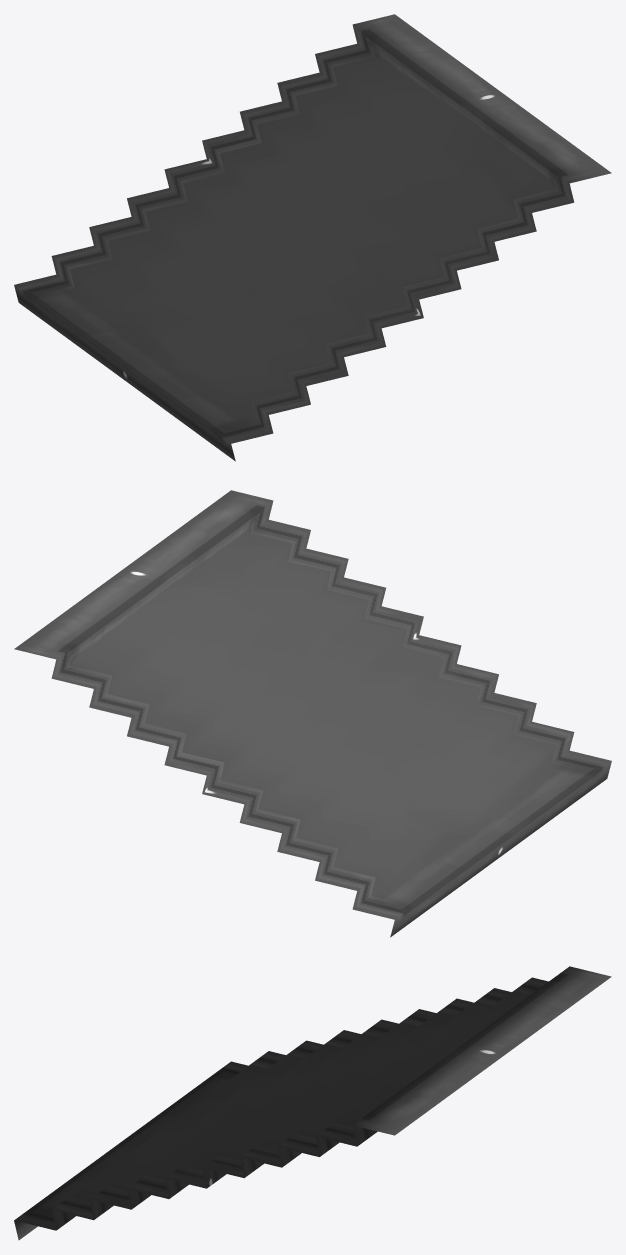
The model's file is floorPlane02_stairs.fbx.
3 renders of one model, top to bottom at view 1: azimuth 30°, elevation 25°; view 2: azimuth 150°, elevation 25°; view 3: azimuth 330°, elevation 25°, orthographic.
Visible parts, largest first — view 1: Plane_Staircase; view 2: Plane_Staircase; view 3: Plane_Staircase.
Part boxes in pixels (x1,y1,x2,y2): Plane_Staircase: (14,14,611,461); Plane_Staircase: (14,490,611,937); Plane_Staircase: (14,966,611,1240).
Bounding box in the file's own units: 4.05 × 2 × 4.
1 material, 1 textured.
